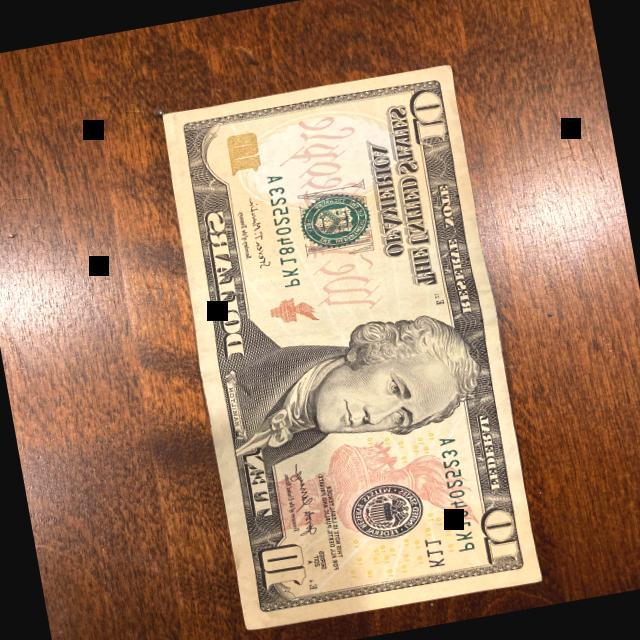ten: (154, 60, 542, 632)
